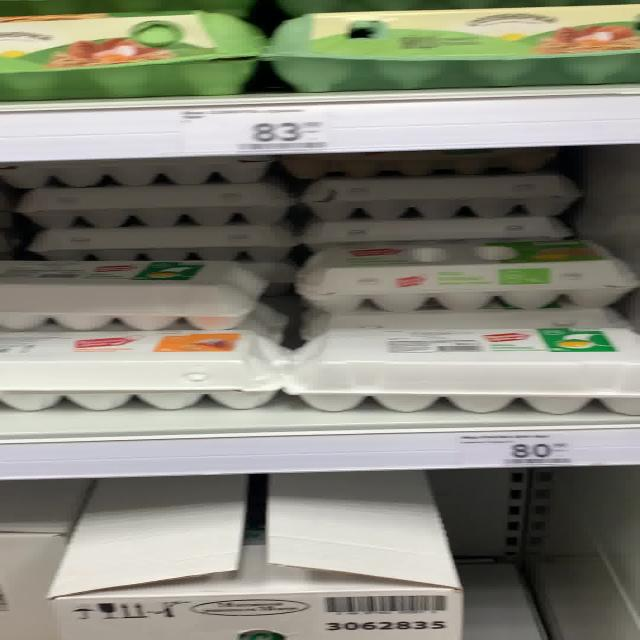egg box: (265, 2, 630, 94), (287, 232, 626, 323), (289, 326, 634, 412), (0, 5, 263, 100), (2, 332, 286, 407), (5, 256, 274, 331)
